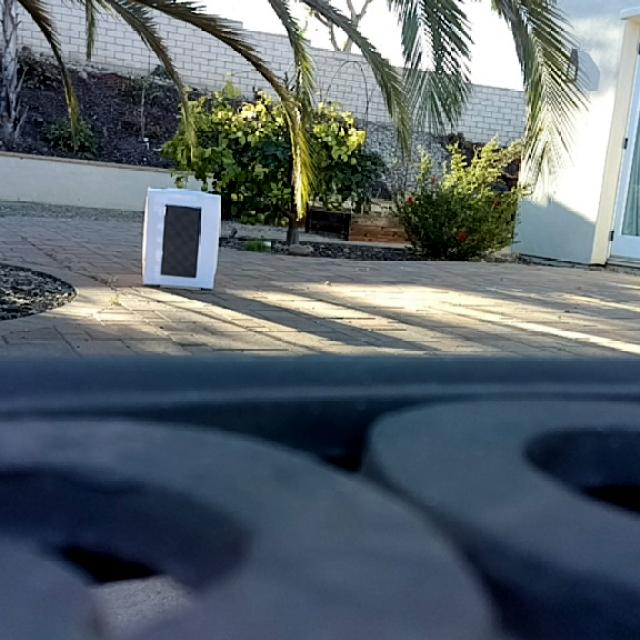led: (162, 203, 206, 278)
